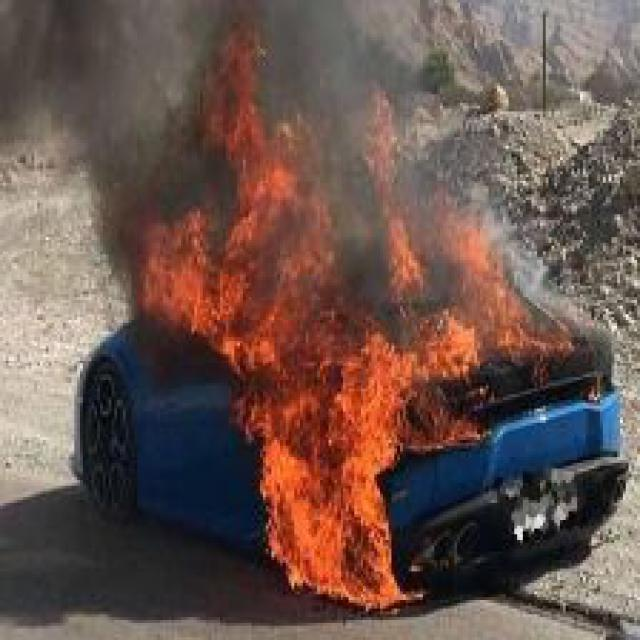fire: (103, 14, 586, 600)
